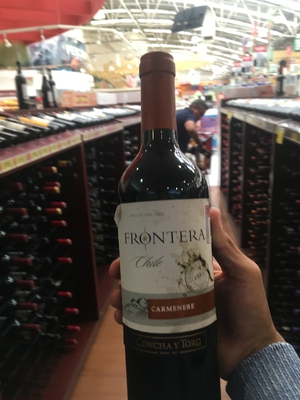frontera carmenere: (106, 59, 227, 399)
